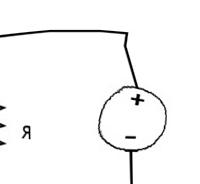Battery: (79, 67, 184, 160)
